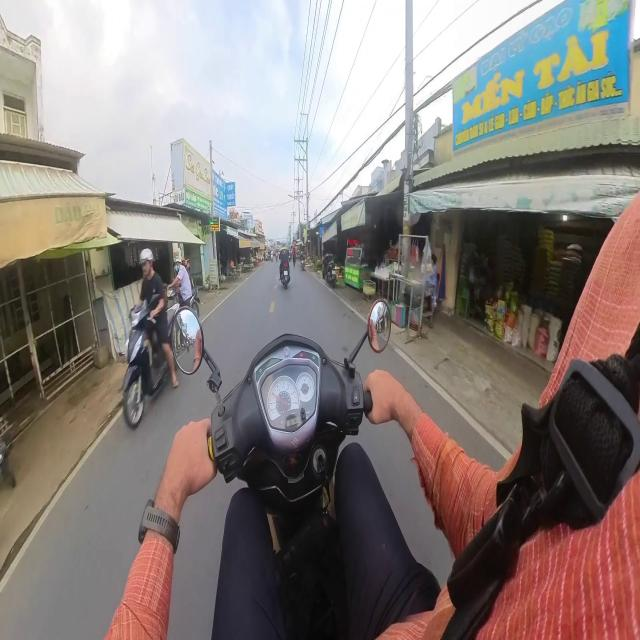motorcycle: (174, 300, 390, 638), (123, 296, 168, 428), (281, 262, 290, 289)
